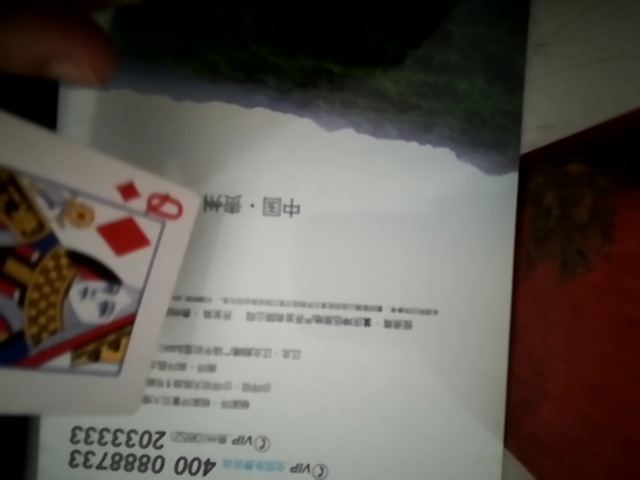fk q: (0, 103, 208, 426)
